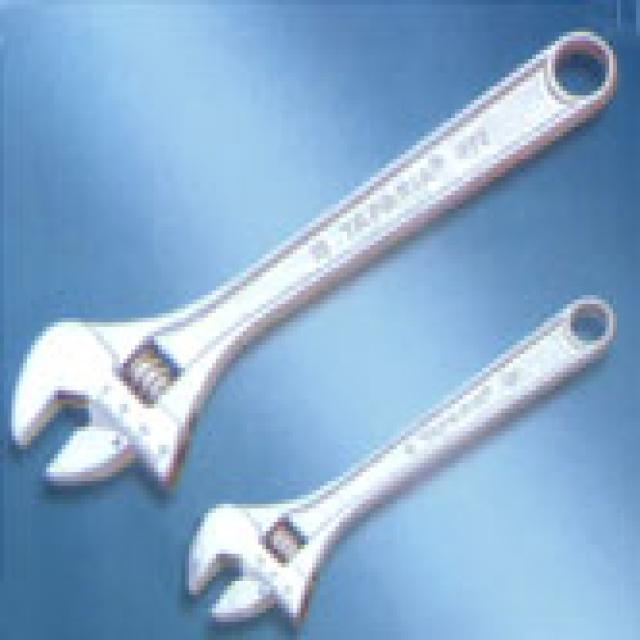wrench: (0, 108, 640, 478), (155, 460, 606, 640)
